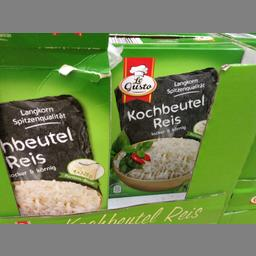rice: (110, 36, 244, 196), (0, 48, 105, 215)
